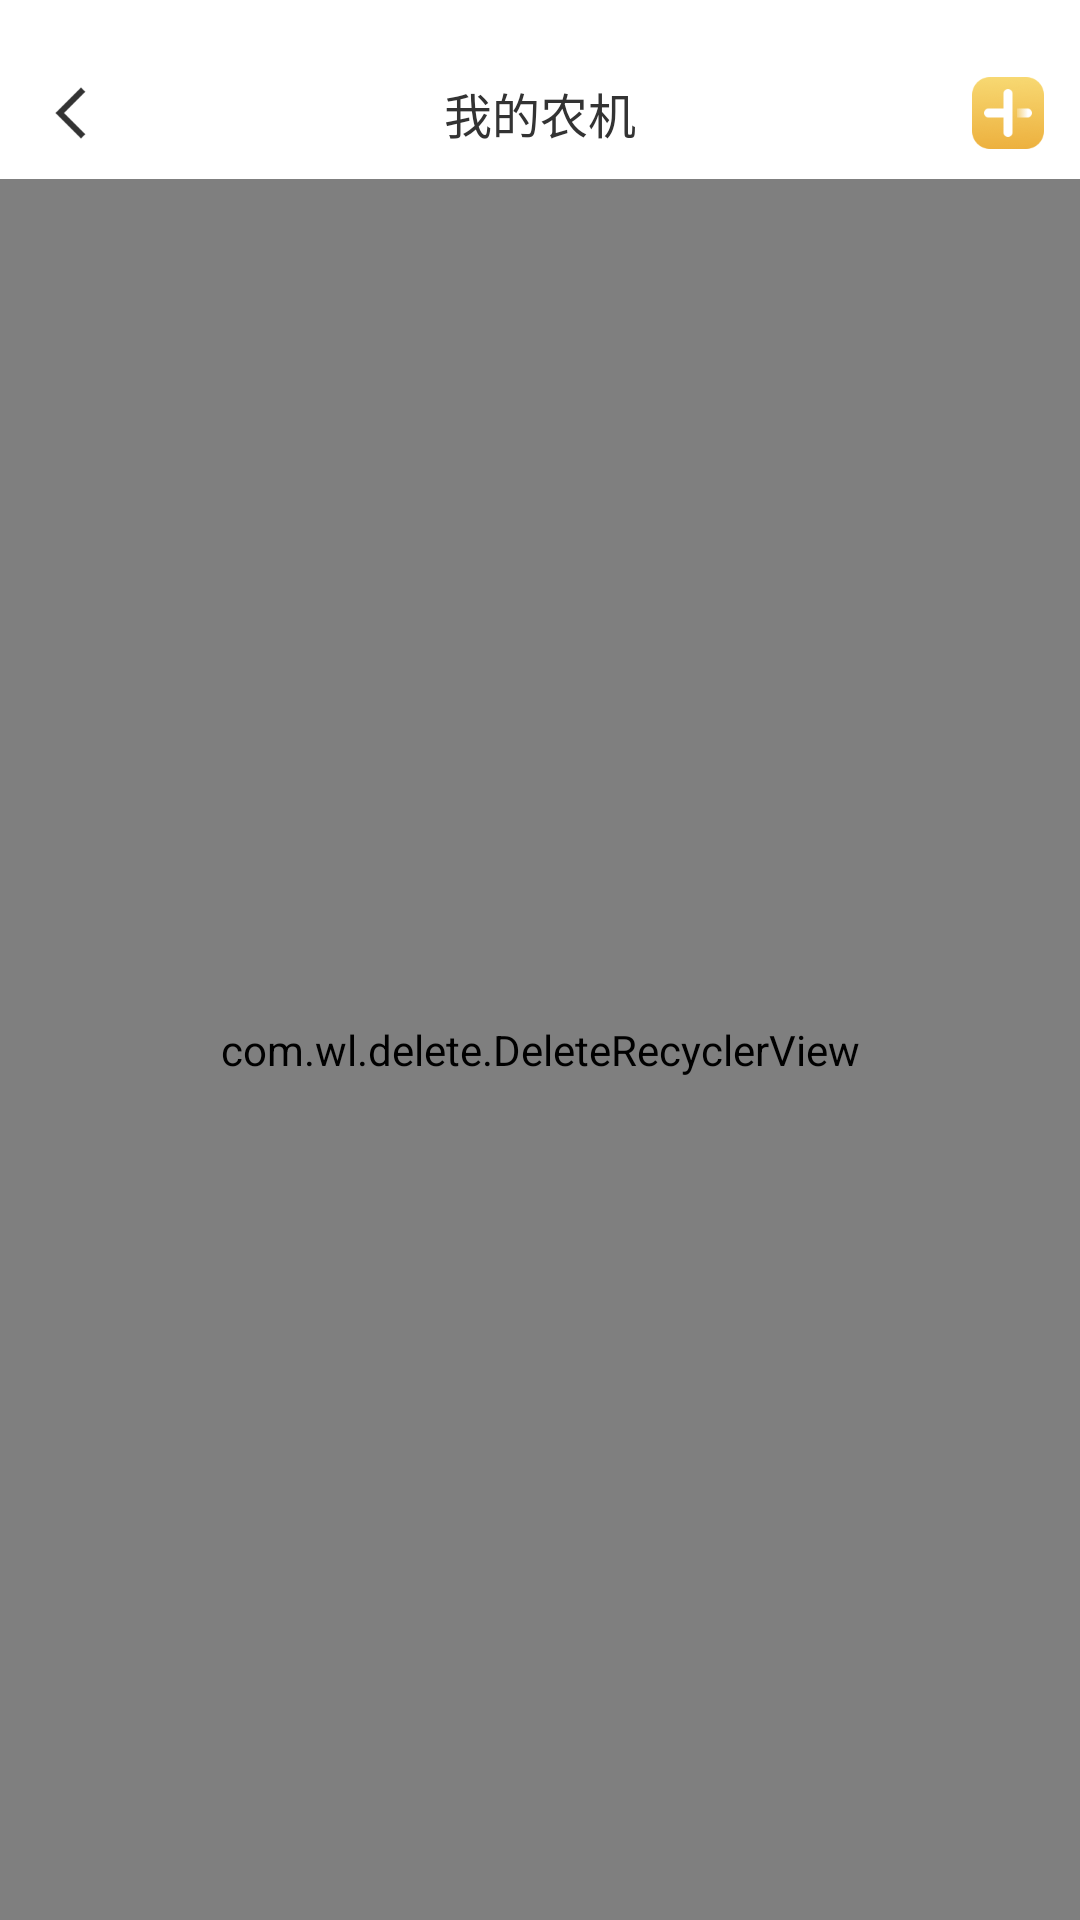

Named icons in this screenshot (1080px×1920px) and their centers, point (x, y):
pic add: point (1008, 113)
return: point (70, 113)
